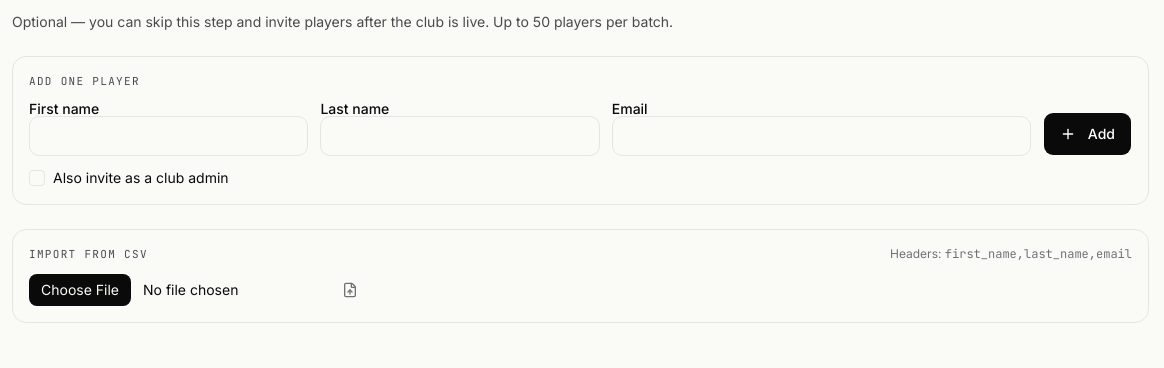
Test: Step4Players › blocks the club-admin email from also being added as a player
Type "Admin" into the field with test id "draft-first-name". click: {"x": 169, "y": 136}
box: [29, 116, 308, 156]
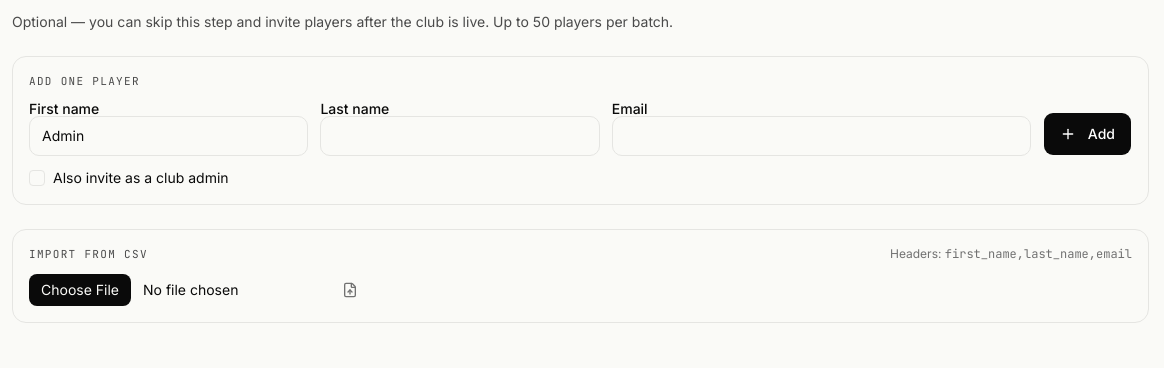
Type "Copy" into the field with test id "draft-last-name". click: {"x": 460, "y": 136}
box: [320, 116, 600, 156]
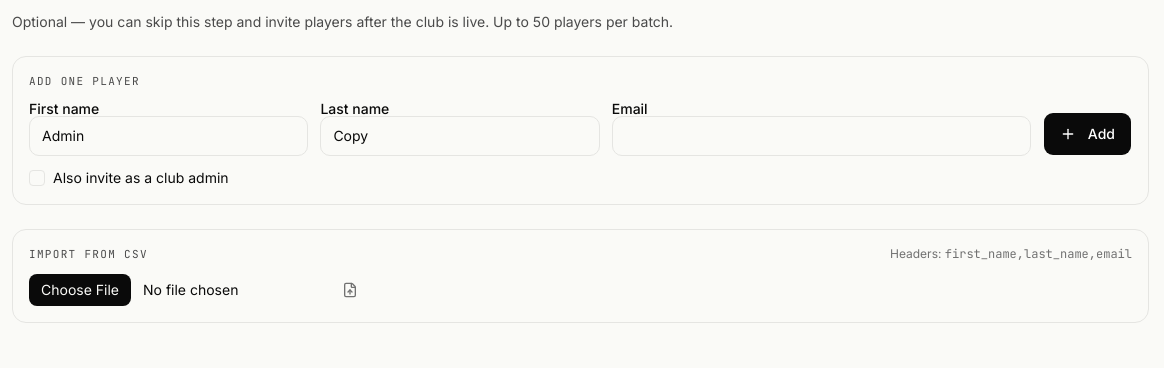
Type "admin@club.co.za" into the field with test id "draft-email". click: {"x": 821, "y": 136}
box: [612, 116, 1031, 156]
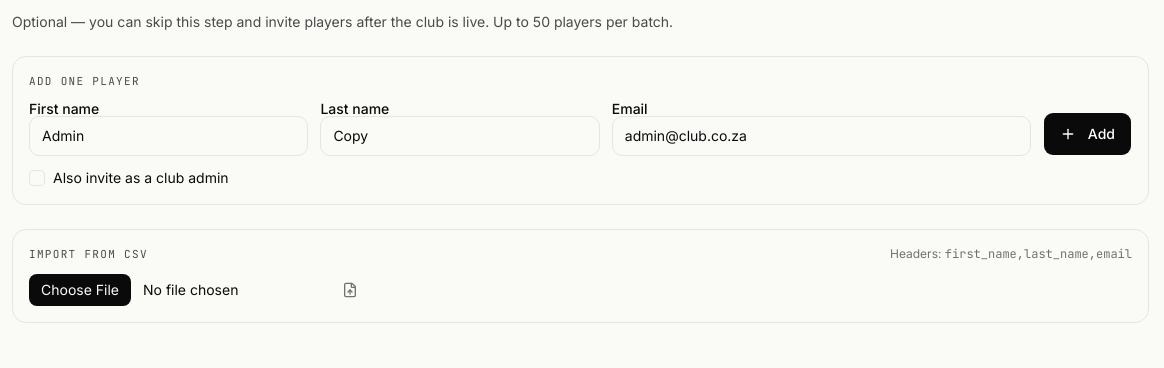
Click the button with test id "draft-add". click: {"x": 1087, "y": 134}
box: [1043, 112, 1132, 156]
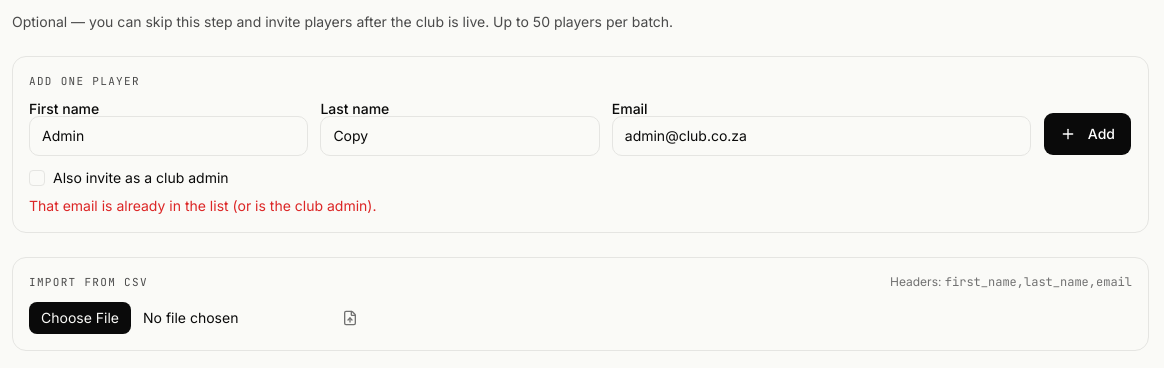
expect the text with test id "draft-error" shows "already in the list": met, box [29, 196, 376, 214]
